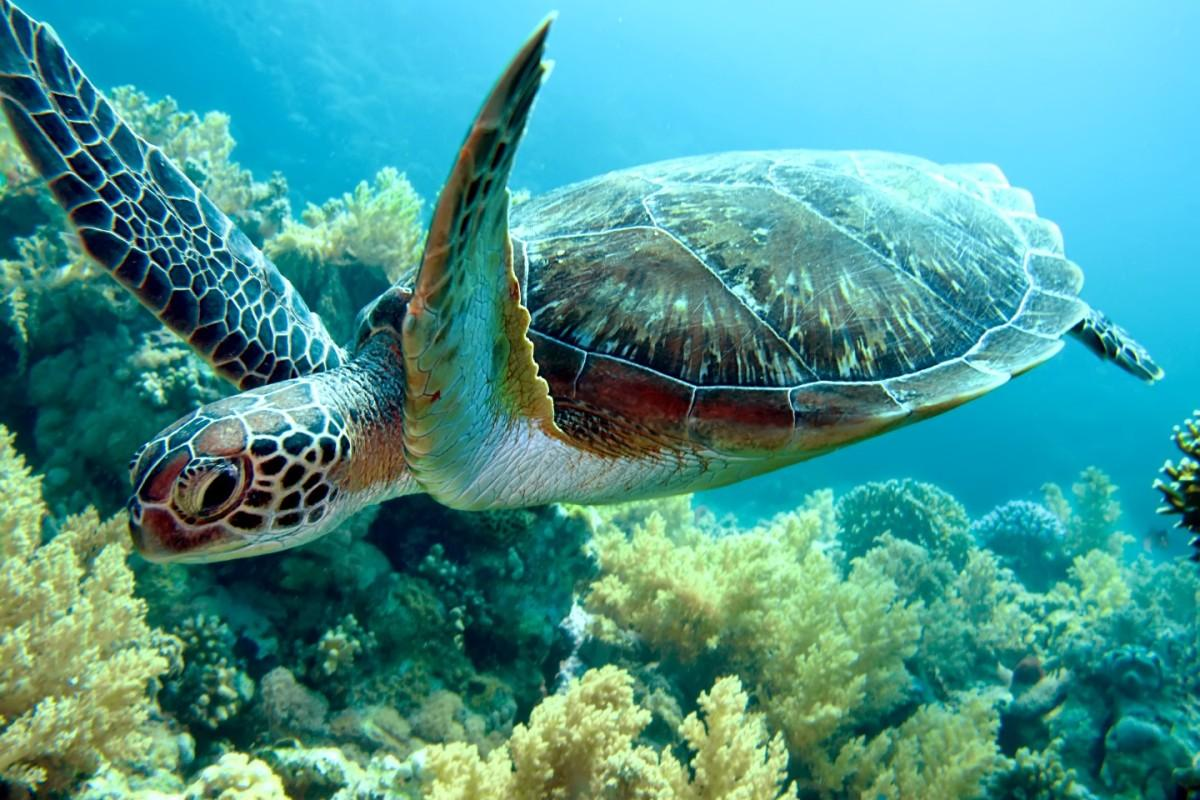turtle: (117, 372, 386, 576)
